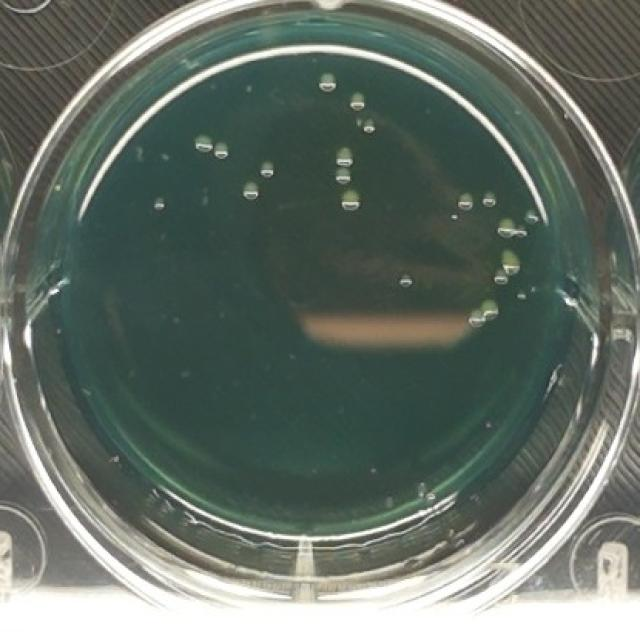vibrio: (468, 299, 497, 332), (496, 216, 527, 243), (499, 247, 520, 275), (316, 70, 338, 96), (339, 188, 362, 212), (334, 145, 355, 169), (394, 267, 414, 292), (256, 158, 277, 181), (457, 190, 476, 214), (192, 133, 212, 155), (359, 116, 378, 138), (348, 90, 366, 113), (210, 138, 230, 158), (241, 182, 261, 202), (524, 205, 541, 228), (334, 165, 352, 186), (489, 267, 508, 286), (480, 188, 498, 206)
